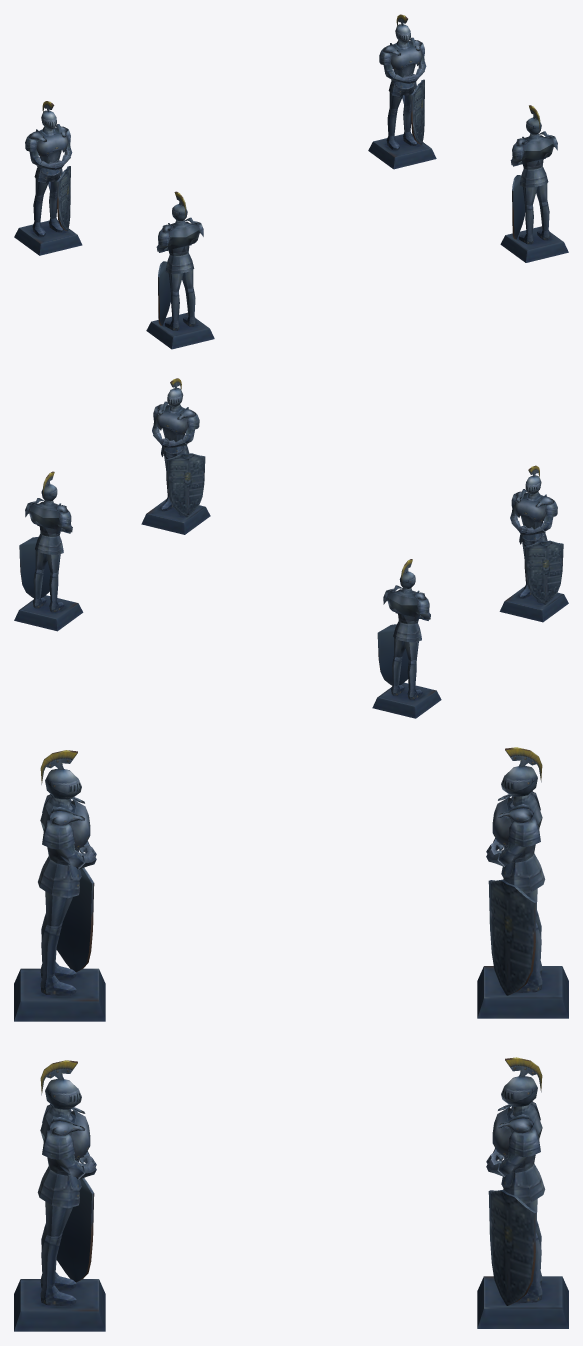
File: wujian47.fbx
3 views of the same model, one above another, from view 1: azimuth 30°, elevation 25°; view 2: azimuth 150°, elevation 25°; view 3: azimuth 270°, elevation 25° (orthographic). The views are drawn at different scales.
Parts seen in each view (by area): view 1: wujian47; view 2: wujian47; view 3: wujian47.
Part boxes in pixels (bbox=[...]): wujian47: bbox=[14, 14, 568, 349]; wujian47: bbox=[14, 378, 568, 718]; wujian47: bbox=[14, 747, 568, 1331].
Bounding box in the file's own units: 1776 × 592 × 1181.
Materials: 1 (1 with a texture image).
